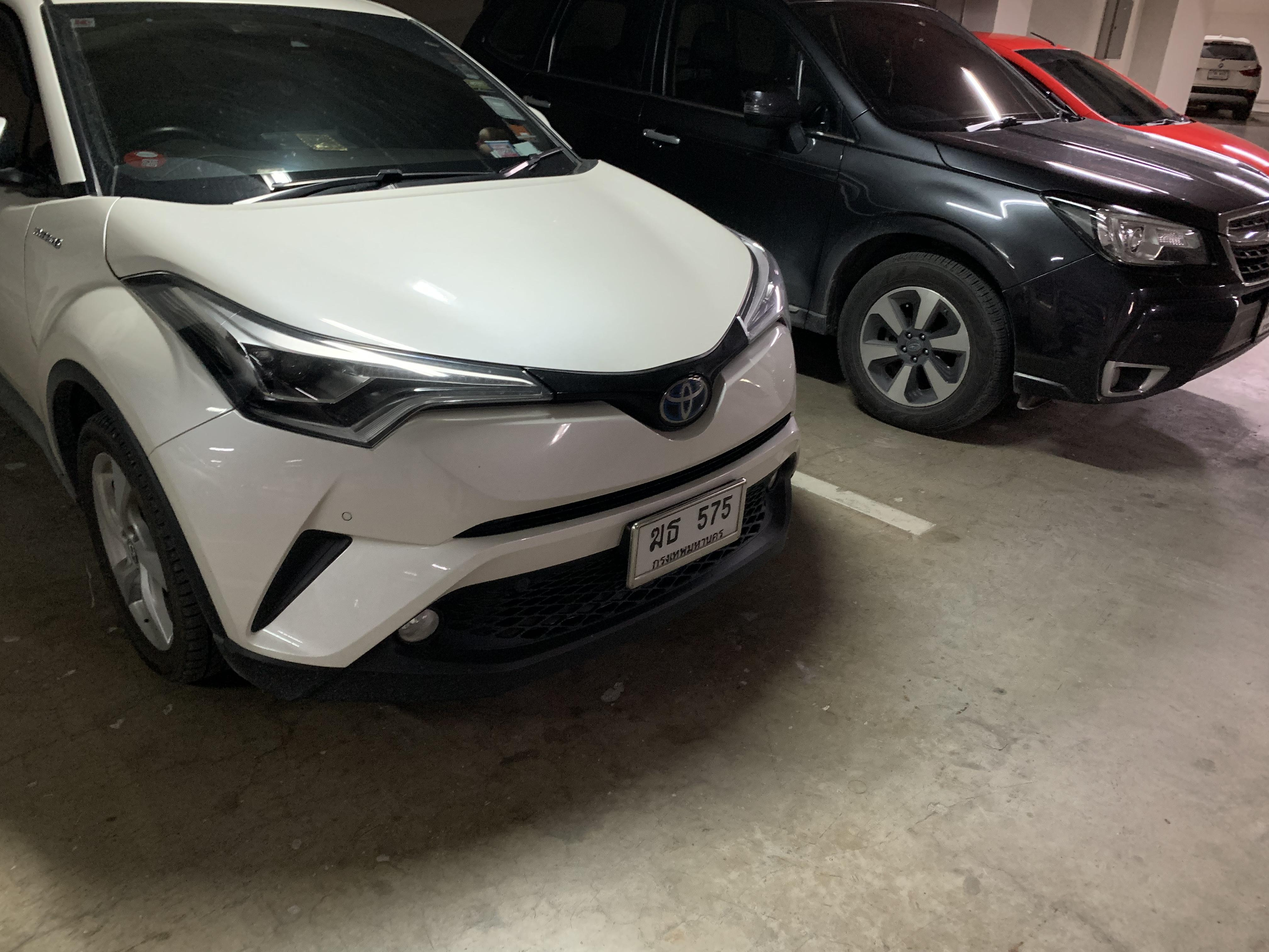license-plate: (621, 474, 753, 592)
